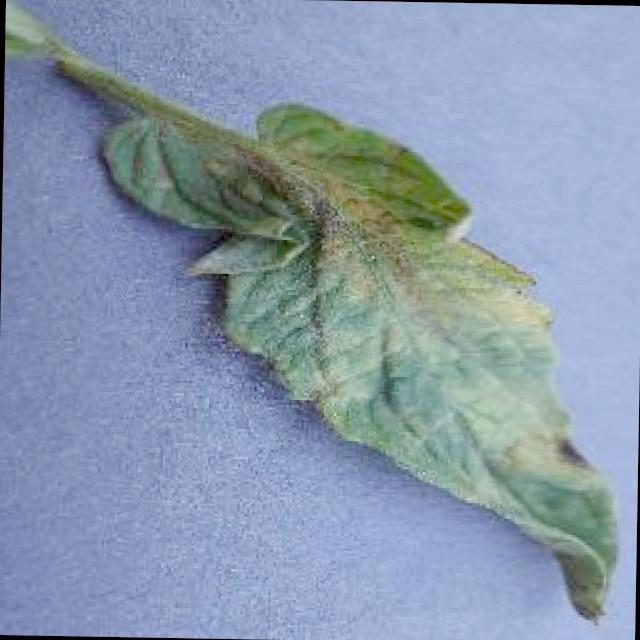Tomato mold leaf: (94, 100, 626, 628)
